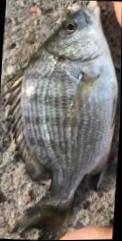fish: (4, 0, 118, 231)
